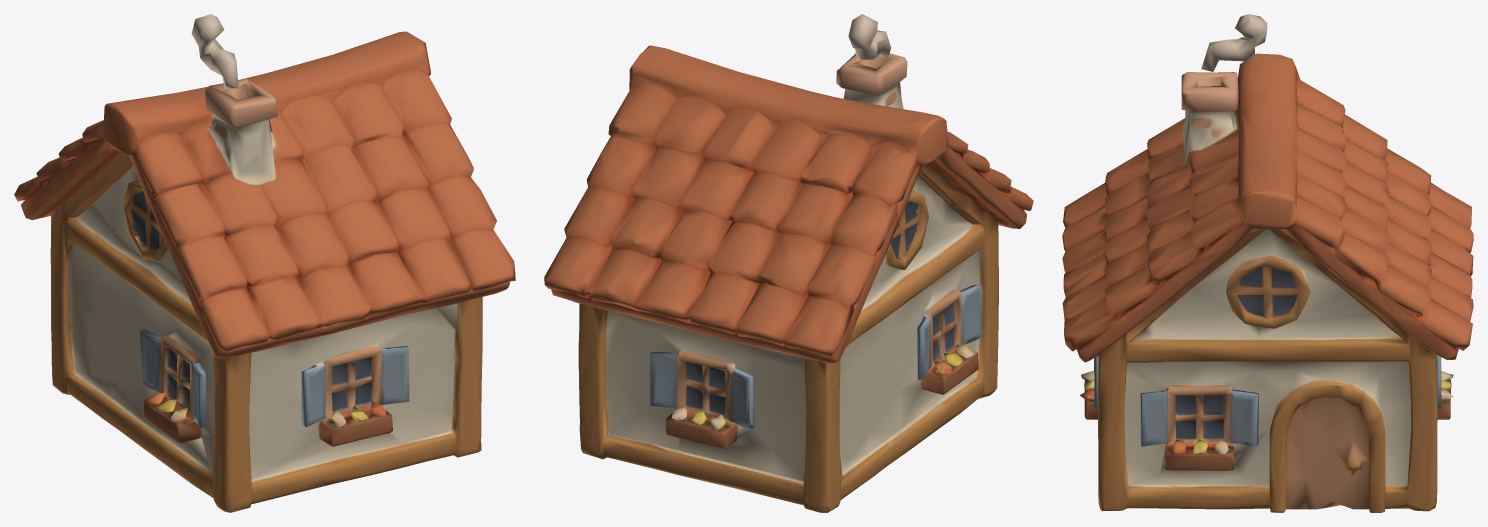
The model's file is house.glb.
3 renders of one model, left to right at view 1: azimuth 30°, elevation 25°; view 2: azimuth 150°, elevation 25°; view 3: azimuth 270°, elevation 25°, orthographic. The views are drawn at different scales.
Visible parts, largest first — view 1: tripo_node_6e1146fd-a63c-4785-818e-3ea8c27a15c9; view 2: tripo_node_6e1146fd-a63c-4785-818e-3ea8c27a15c9; view 3: tripo_node_6e1146fd-a63c-4785-818e-3ea8c27a15c9.
Boxes of the visible parts, x1,y1,x2,y2 form: tripo_node_6e1146fd-a63c-4785-818e-3ea8c27a15c9: [14, 14, 515, 512]; tripo_node_6e1146fd-a63c-4785-818e-3ea8c27a15c9: [544, 14, 1033, 512]; tripo_node_6e1146fd-a63c-4785-818e-3ea8c27a15c9: [1062, 14, 1473, 512].
Size of the model in its own units: 0.7513 by 1 by 0.9127.
1 material, 1 textured.
